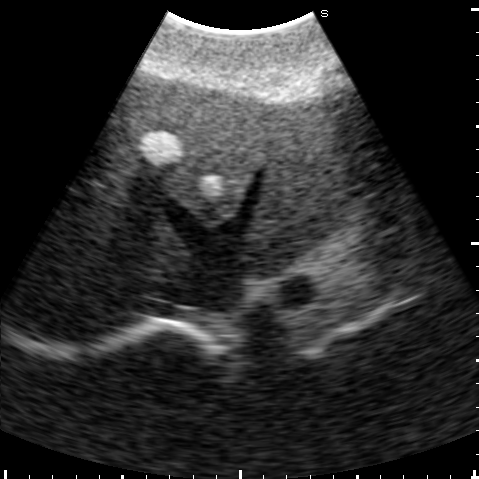S2: (242, 99, 363, 278)
S4: (113, 72, 277, 224)
S7: (34, 220, 139, 343)
S8: (76, 146, 185, 272)
Tumor: (137, 130, 179, 165), (199, 174, 221, 198)
